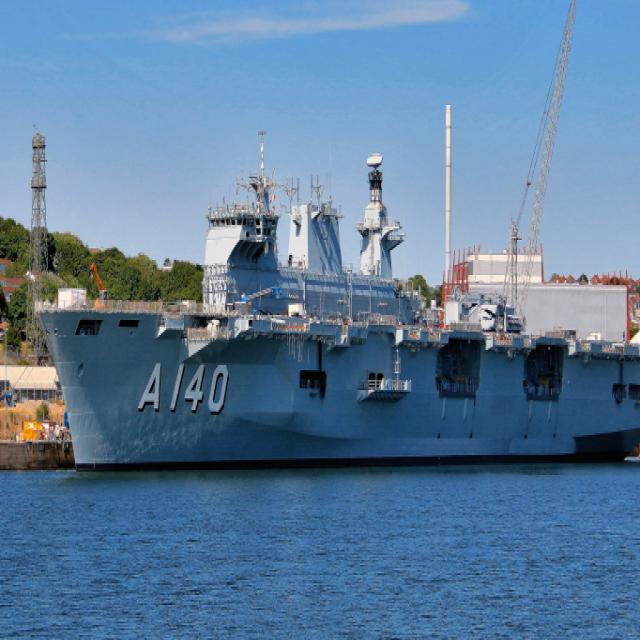Portanaves: (34, 119, 640, 481)
